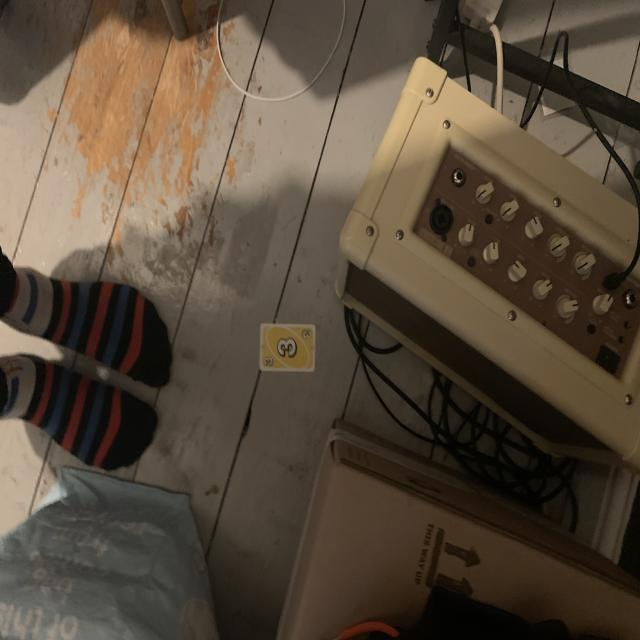lyellow-3: (262, 354, 274, 368)
